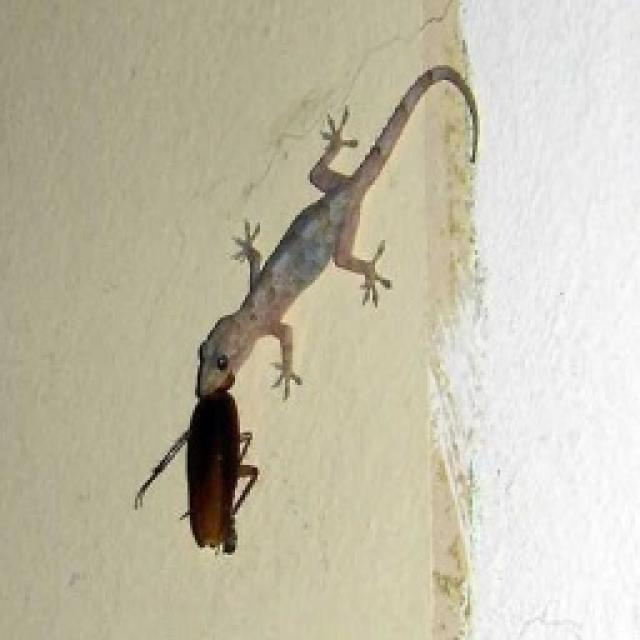cockroach: (130, 354, 282, 558)
